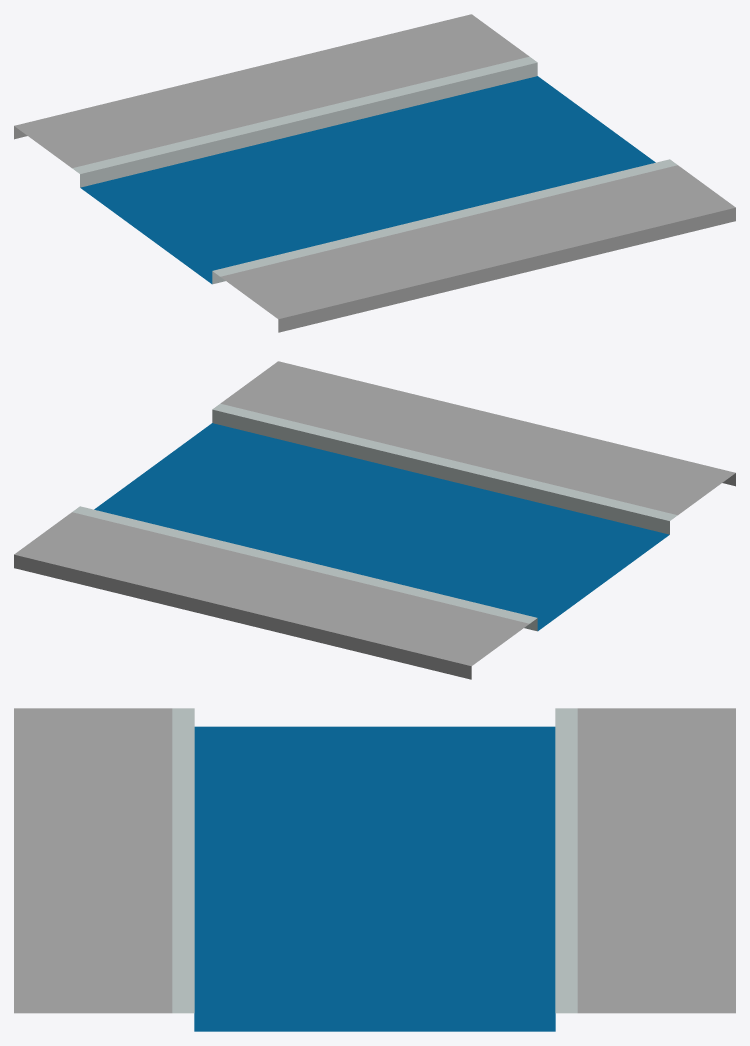
The model's file is Road_Narrow.fbx.
The picture shows the model from 3 angles, top to bottom: view 1: azimuth 30°, elevation 25°; view 2: azimuth 150°, elevation 25°; view 3: azimuth 270°, elevation 25°; orthographic projection. The views are drawn at different scales.
Visible parts, largest first — view 1: Road_Narrow; view 2: Road_Narrow; view 3: Road_Narrow.
Boxes of the visible parts, x1,y1,x2,y2 form: Road_Narrow: (14,14,735,332); Road_Narrow: (14,361,735,679); Road_Narrow: (14,708,735,1031).
Bounding box in the file's own units: 800 × 22.59 × 800.
